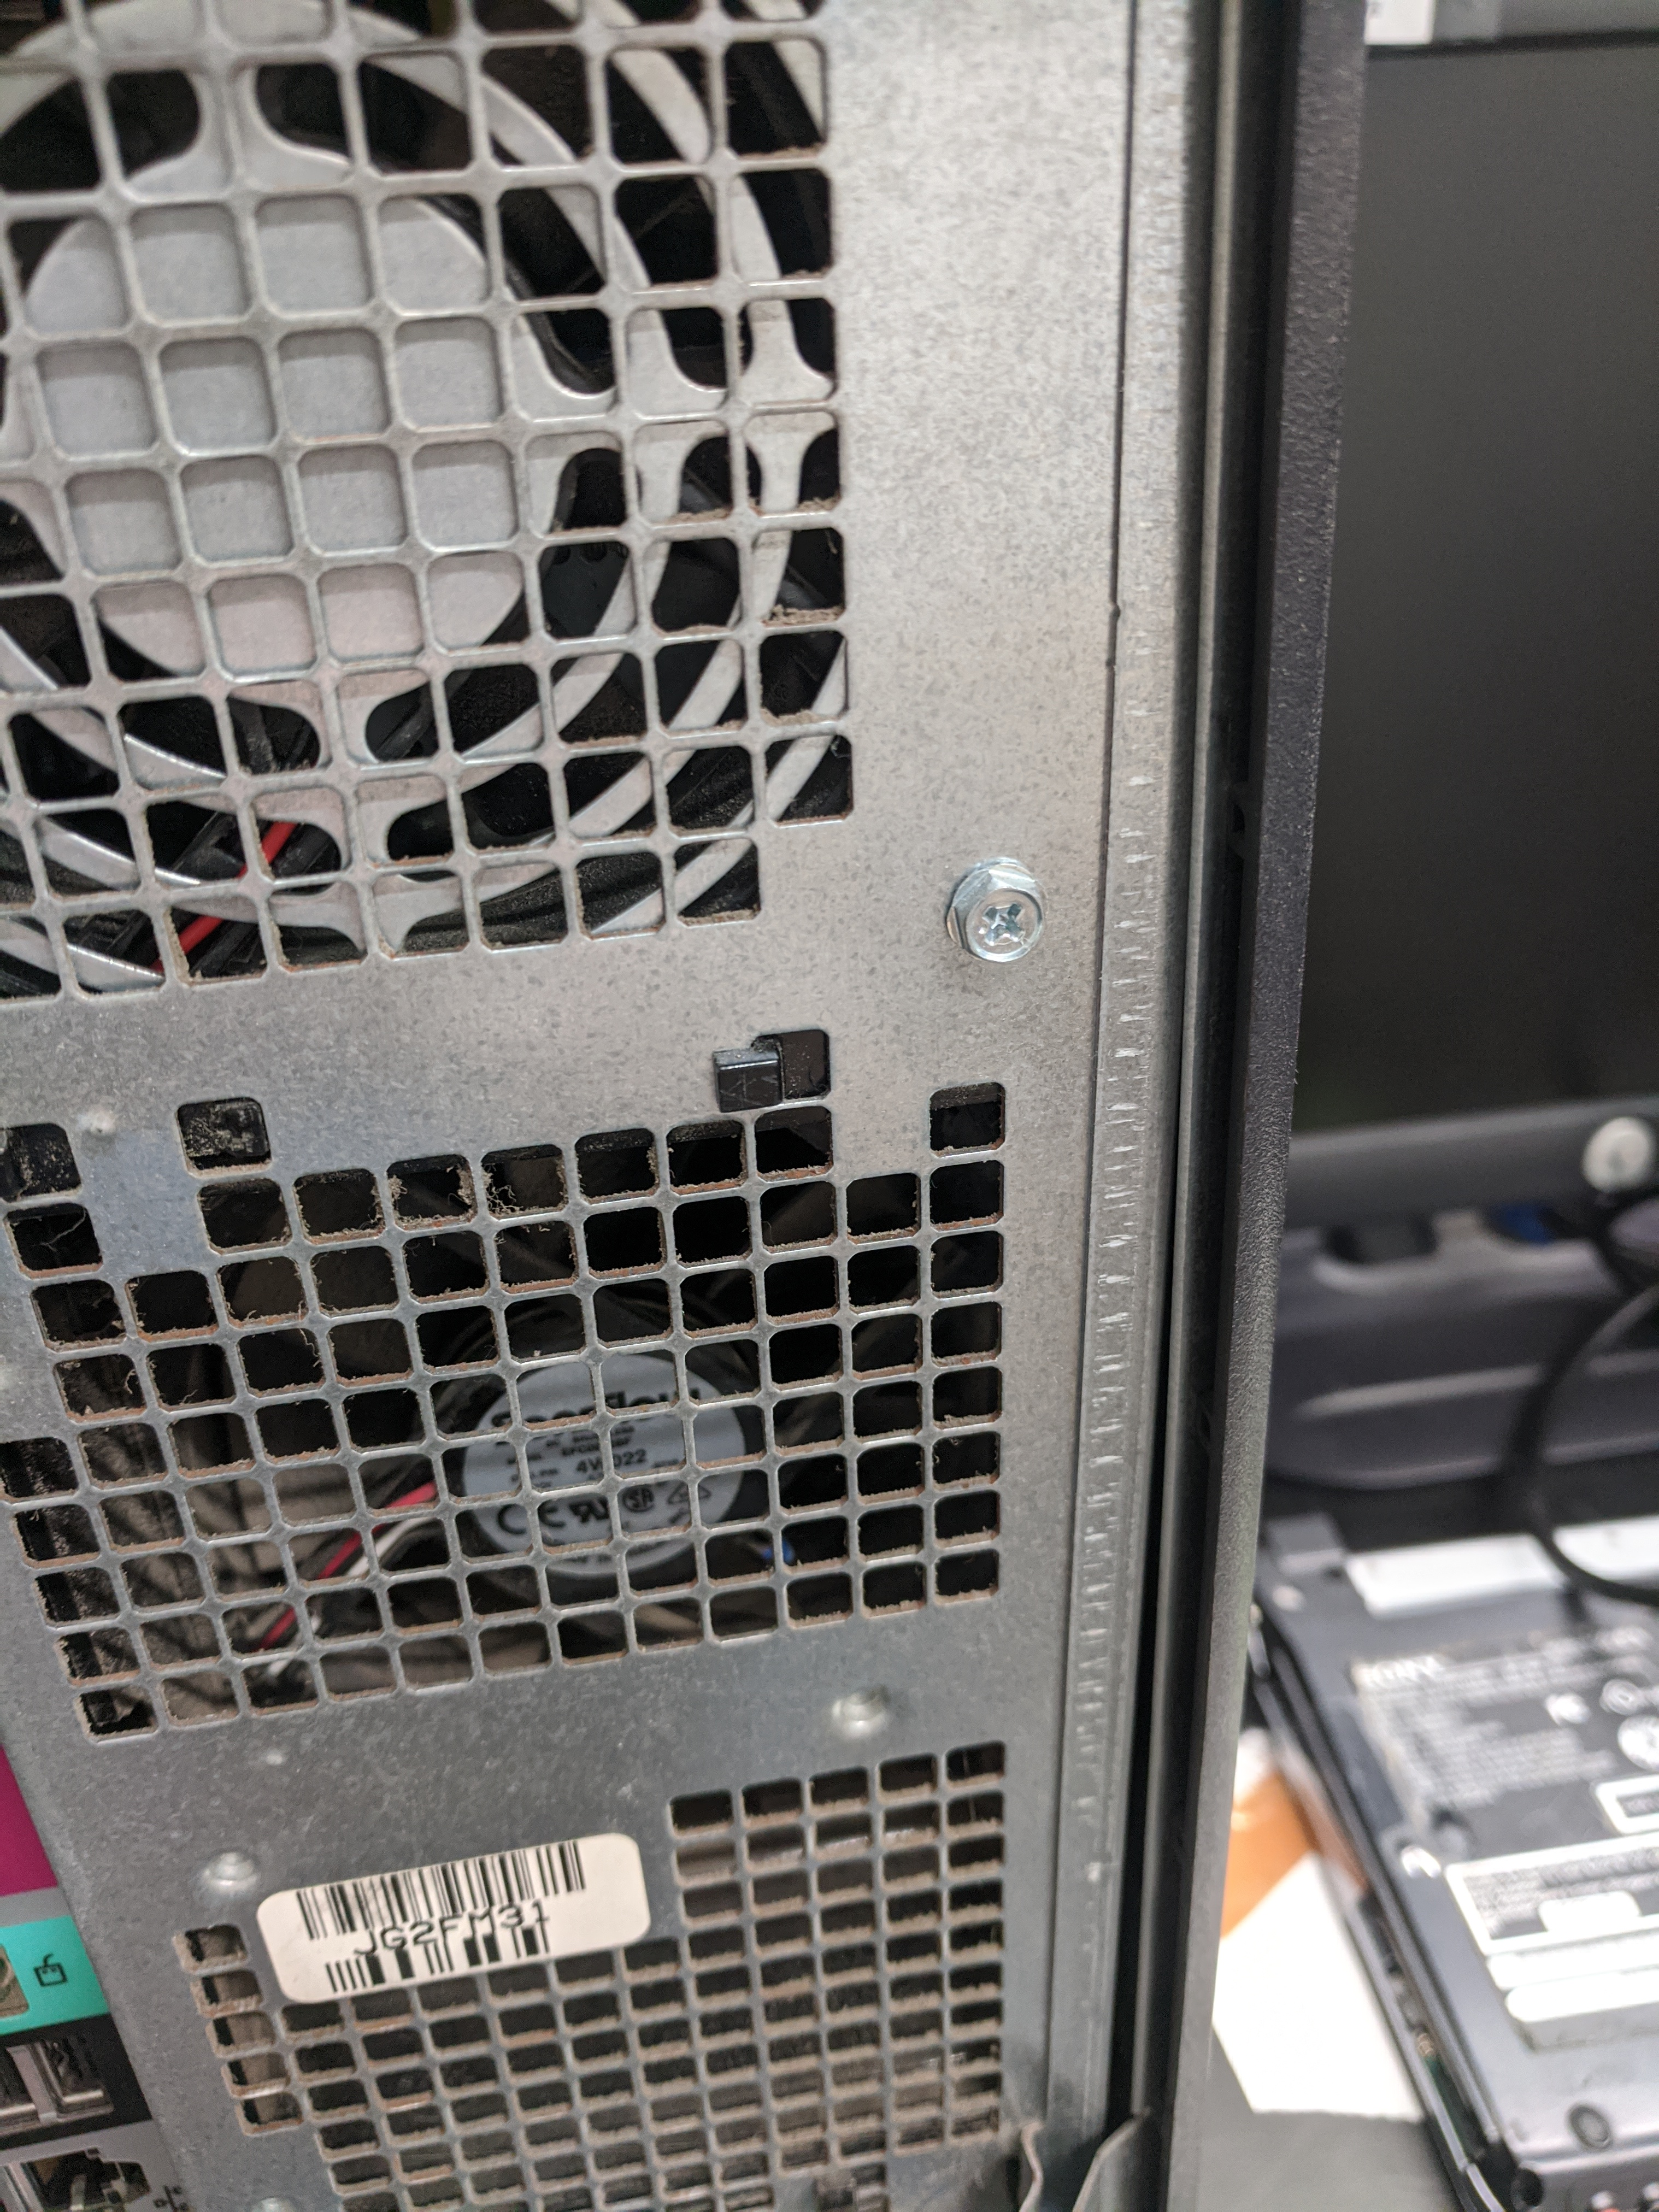cross_recessed_screw: (958, 853, 1053, 988)
